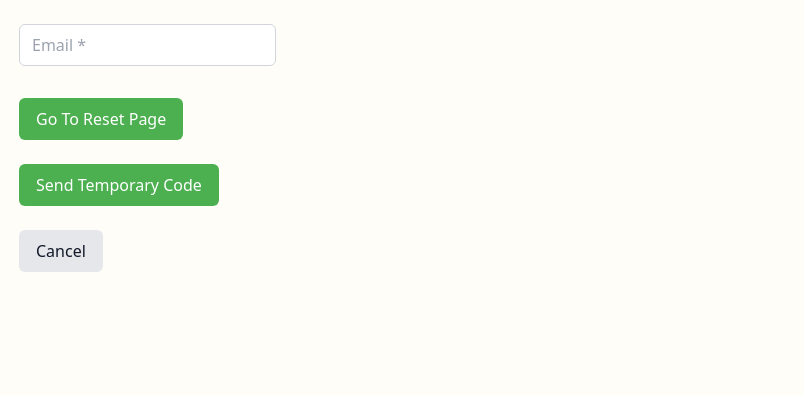
ForgotPasswordForm › shows code message when email is valid and account exists
The image size is (804, 395).
In the field named "Email*": (148, 45) [19,24,276,66], type "person@example.com"
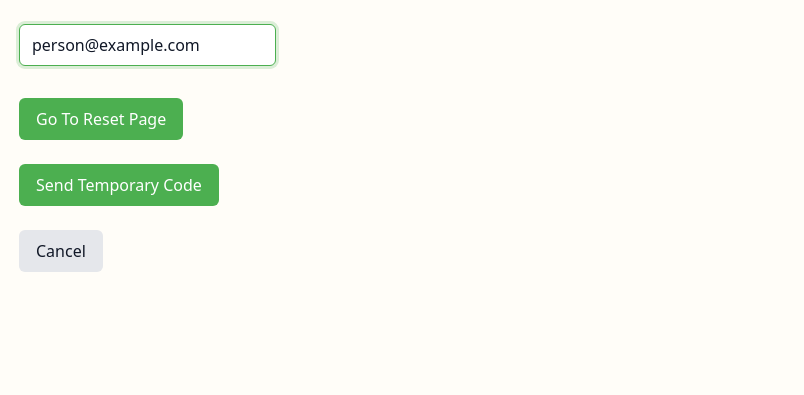
Click the button "Send Temporary Code": (119, 185) [19,164,219,206]
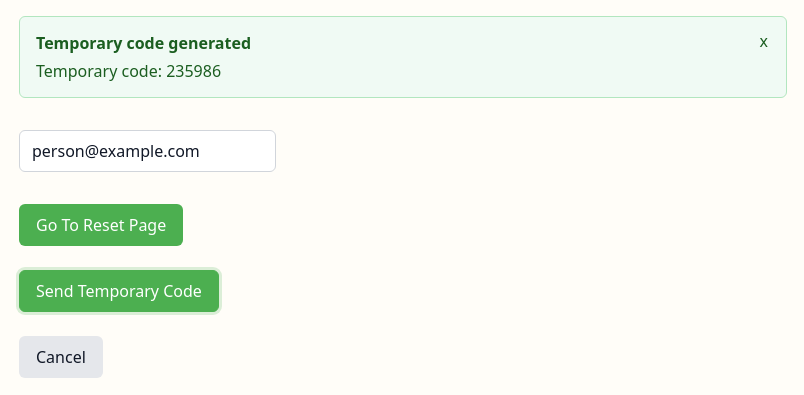
Check: the text "Temporary code: 235986" is shown, box [36,59,251,83]
